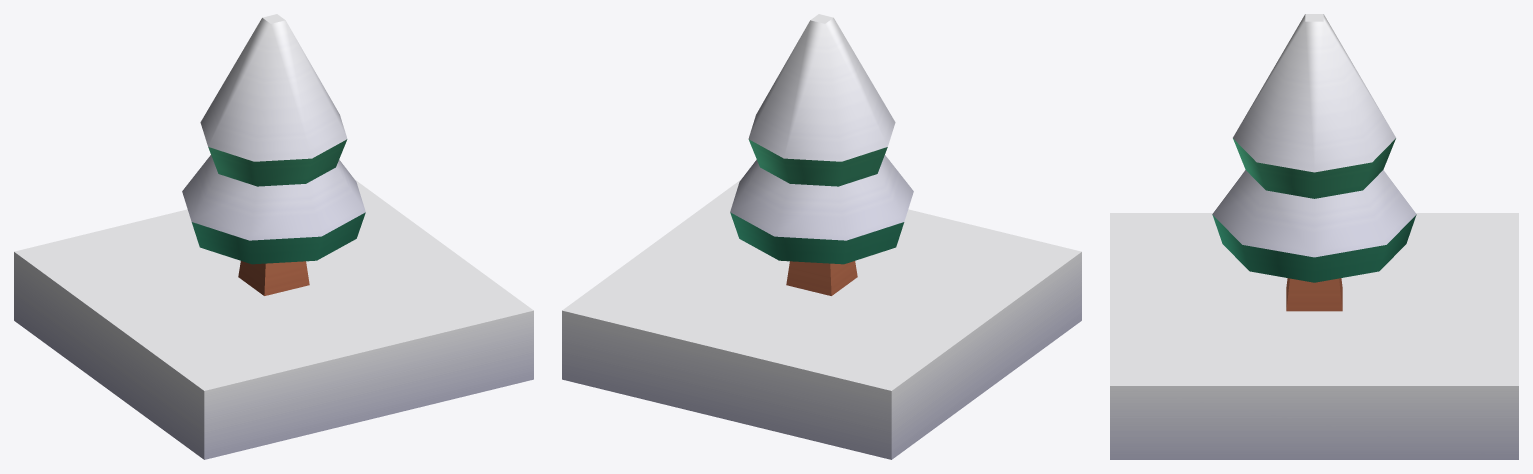
Rendered from snow-tile-tree.fbx.
3 views of the same model, side by side, from view 1: azimuth 30°, elevation 25°; view 2: azimuth 150°, elevation 25°; view 3: azimuth 270°, elevation 25° (orthographic). The views are drawn at different scales.
Visible parts, largest first — view 1: snow-tile-tree; view 2: snow-tile-tree; view 3: snow-tile-tree.
Part boxes in pixels (x1,y1,x2,y2): snow-tile-tree: [14, 14, 533, 459]; snow-tile-tree: [562, 14, 1081, 459]; snow-tile-tree: [1110, 14, 1518, 459].
Bounding box in the file's own units: 100 × 96 × 100.
